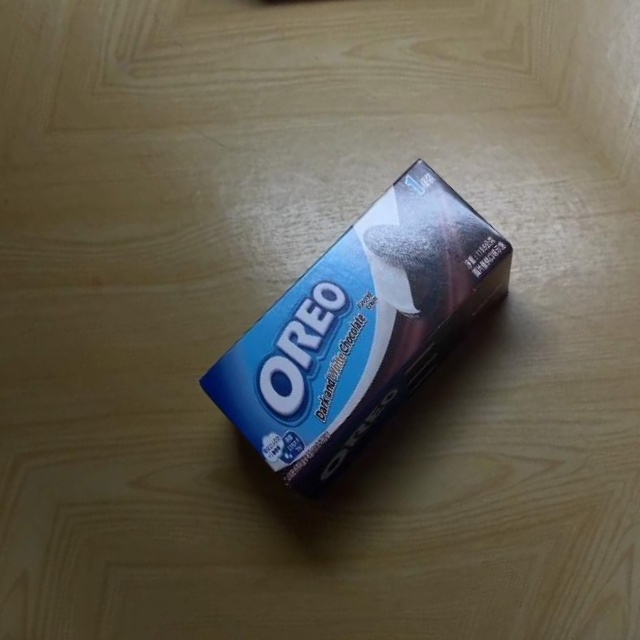Oreo: (176, 147, 548, 500)
